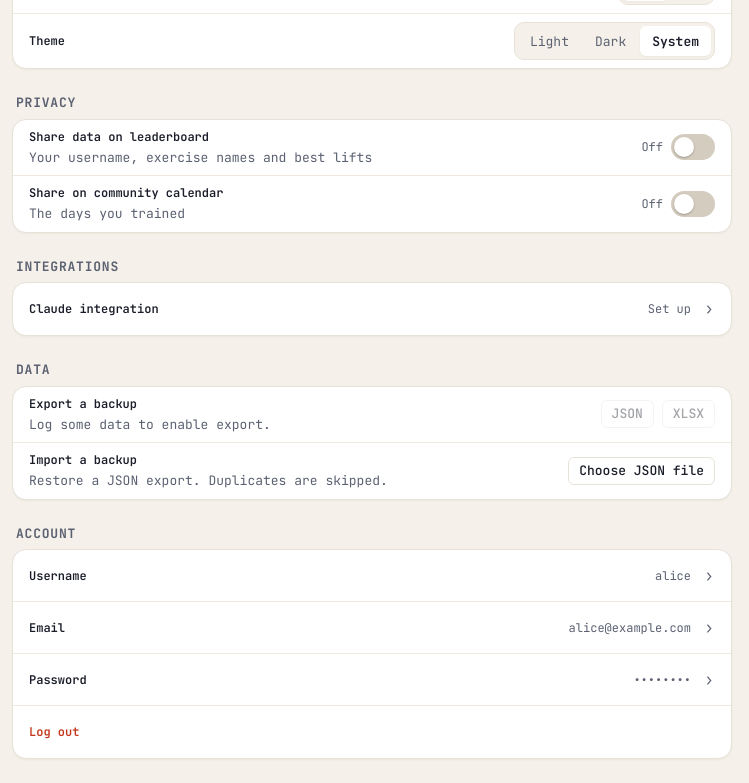
Test case: Settings — account rows › changes the email after verifying the current password
(page scrolled)
Click the button "Email alice@example.com ›".
click(47, 628)  # box [13,602,731,654]
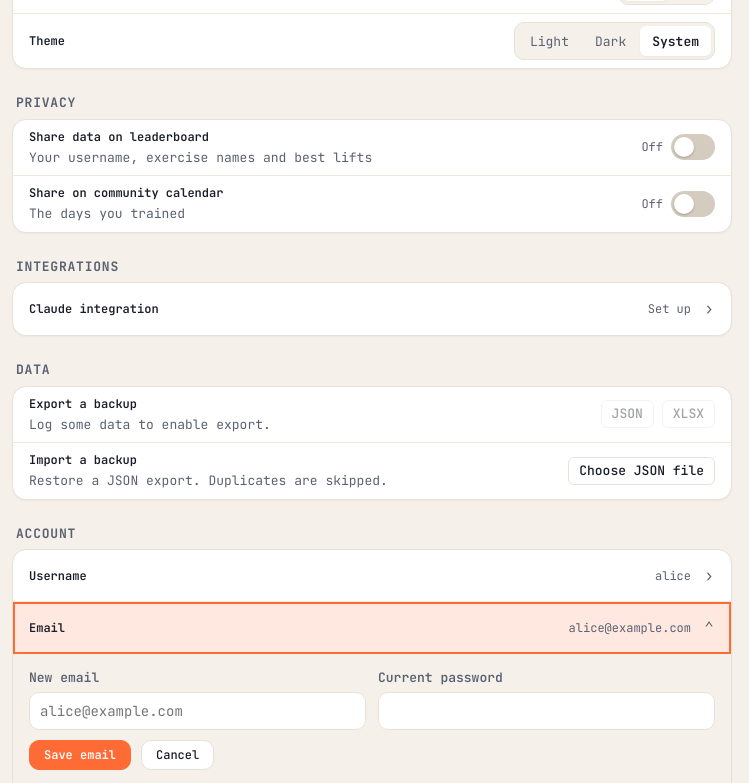
Type "new@example.com" into the field labelled "New email".
click(198, 710); type("new@example.com")  # box [29,692,366,730]
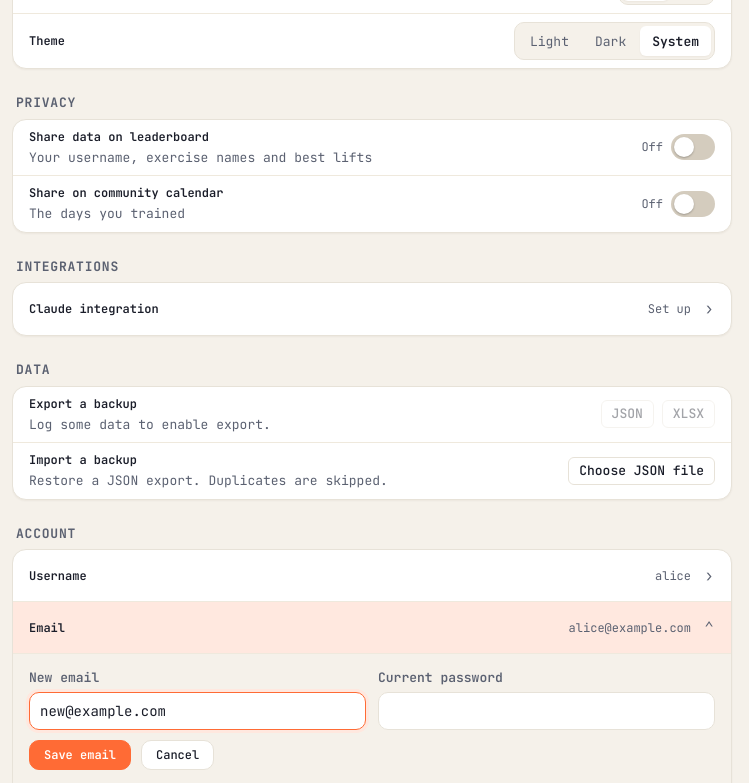
Type "pw123456" into the password field labelled "Current password".
click(546, 710); type("pw123456")  # box [378,692,715,730]
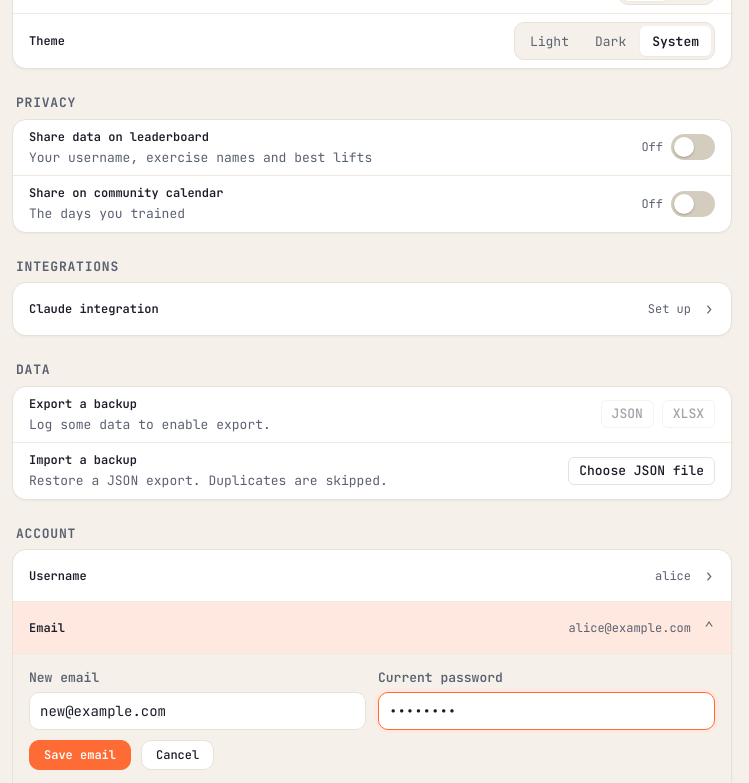
Click the button "Save email".
click(80, 755)  # box [29,740,131,770]
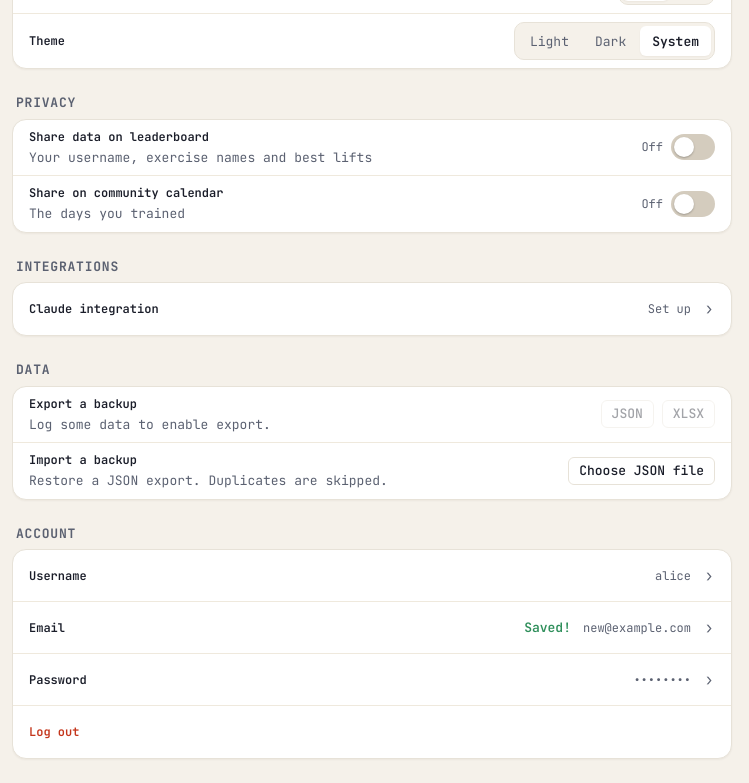
Expected: the button "Email Saved! new@example.com ›" is shown, [13,602,731,654]
